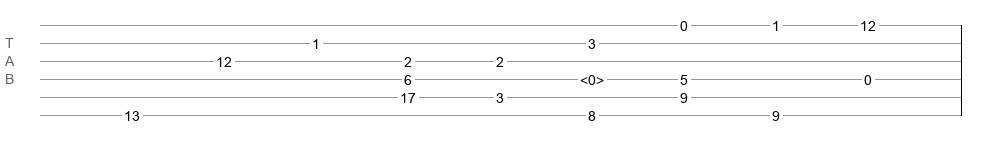0: (680, 18, 688, 28), (864, 72, 872, 82)
1: (312, 36, 320, 46), (772, 18, 780, 28)
12: (216, 54, 232, 64), (860, 18, 876, 28)
13: (124, 108, 140, 118)
17: (400, 90, 416, 100)
2: (404, 54, 412, 64), (496, 54, 504, 64)
3: (496, 90, 504, 100), (588, 36, 596, 46)
5: (680, 72, 688, 82)
6: (404, 72, 412, 82)
8: (588, 108, 596, 118)
9: (680, 90, 688, 100), (772, 108, 780, 118)
harmonic: (580, 72, 604, 82)
